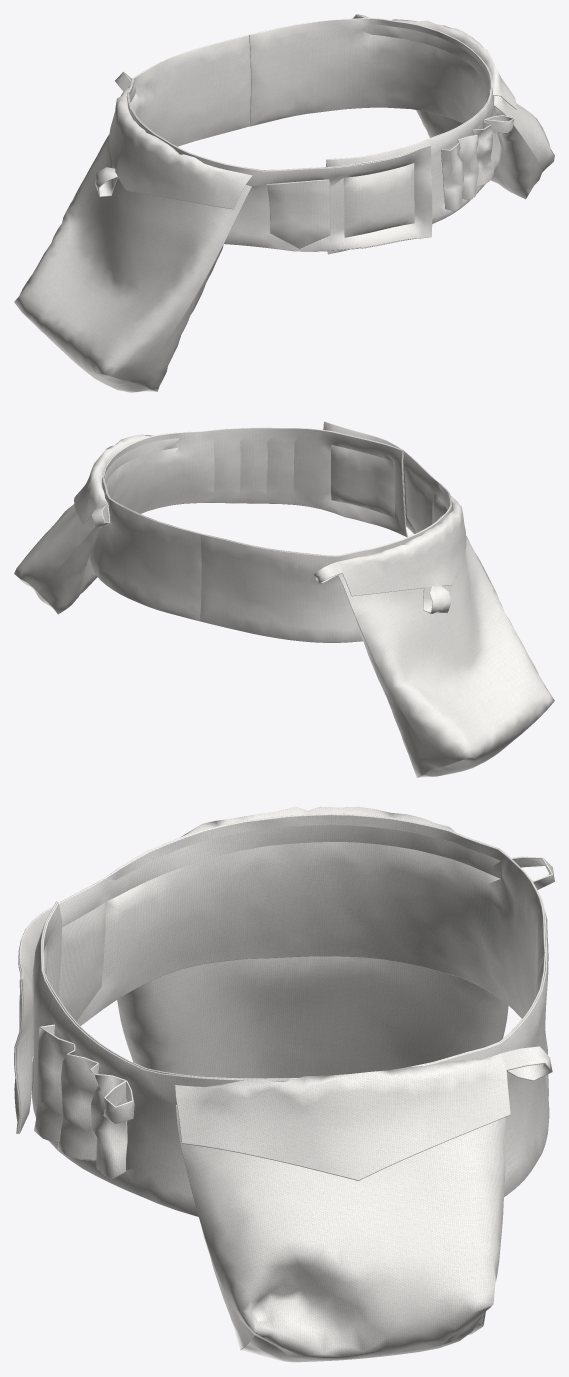
3 renders of one model, top to bottom at view 1: azimuth 30°, elevation 25°; view 2: azimuth 150°, elevation 25°; view 3: azimuth 270°, elevation 25°, orthographic. The views are drawn at different scales.
Parts seen in each view (by area): view 1: Pattern2D_16619, Pattern2D_40963 (×2), Pattern2D_40948 (×2), Pattern2D_23540, Pattern2D_36400, Pattern2D_27654, Pattern2D_36398, Pattern2D_16618, Pattern2D_36379, Pattern2D_27655, Pattern2D_40964; view 2: Pattern2D_40963 (×2), Pattern2D_16619, Pattern2D_40948 (×2), Pattern2D_23540, Pattern2D_36379, Pattern2D_36398, Pattern2D_16618, Pattern2D_27655, Pattern2D_40964; view 3: Pattern2D_40948 (×2), Pattern2D_36379, Pattern2D_16618, Pattern2D_27655, Pattern2D_40963 (×2), Pattern2D_27654, Pattern2D_36398, Pattern2D_23540, Pattern2D_36399, Pattern2D_26878.
Boxes of the visible parts, box(x1,y1,x2,y2) form: Pattern2D_16619: box(14, 134, 251, 385); Pattern2D_40963 (×2): box(249, 18, 501, 254); Pattern2D_40948 (×2): box(126, 35, 432, 251); Pattern2D_23540: box(109, 86, 252, 209); Pattern2D_36400: box(266, 179, 329, 248); Pattern2D_27654: box(441, 119, 494, 211); Pattern2D_36398: box(416, 106, 542, 199); Pattern2D_16618: box(84, 199, 245, 392); Pattern2D_36379: box(494, 95, 554, 171); Pattern2D_27655: box(391, 19, 516, 109); Pattern2D_40964: box(95, 163, 117, 196); Pattern2D_40963 (×2): box(89, 427, 407, 621); Pattern2D_16619: box(338, 535, 554, 768); Pattern2D_40948 (×2): box(200, 421, 452, 642); Pattern2D_23540: box(337, 496, 466, 596); Pattern2D_36379: box(14, 504, 95, 593); Pattern2D_36398: box(36, 526, 101, 614); Pattern2D_16618: box(343, 585, 504, 777); Pattern2D_27655: box(74, 434, 152, 524); Pattern2D_40964: box(423, 585, 451, 613); Pattern2D_40948 (×2): box(14, 813, 548, 1133); Pattern2D_36379: box(176, 1105, 505, 1360); Pattern2D_16618: box(117, 956, 508, 1078); Pattern2D_27655: box(175, 1053, 510, 1180); Pattern2D_40963 (×2): box(32, 901, 549, 1216); Pattern2D_27654: box(34, 1024, 127, 1178); Pattern2D_36398: box(177, 1125, 505, 1362); Pattern2D_23540: box(179, 806, 454, 837); Pattern2D_36399: box(500, 1046, 552, 1080); Pattern2D_26878: box(103, 1080, 134, 1123).
Size of the model in its own units: 43.24 by 20.82 by 25.08.
